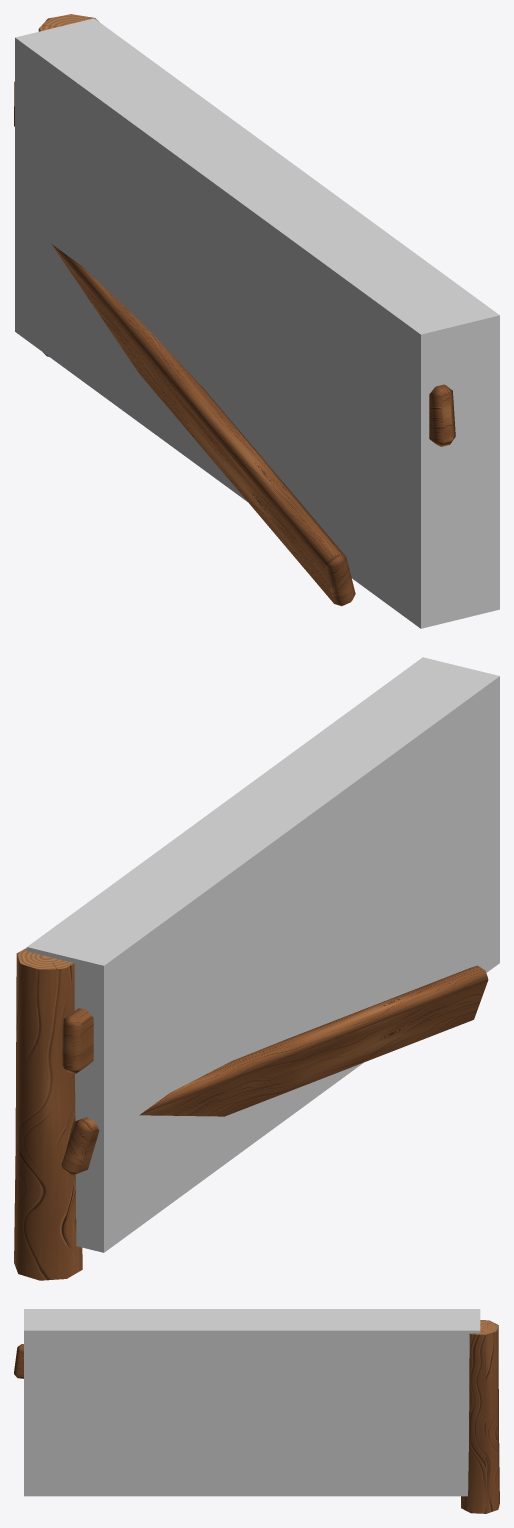
Rendered from SM_Fence_Broken.fbx.
3 views of the same model, one above another, from view 1: azimuth 30°, elevation 25°; view 2: azimuth 150°, elevation 25°; view 3: azimuth 270°, elevation 25° (orthographic). The views are drawn at different scales.
Parts seen in each view (by area): view 1: FenceBroken_Col0, FenceBroken_Body; view 2: FenceBroken_Col0, FenceBroken_Body; view 3: FenceBroken_Col0, FenceBroken_Body.
Boxes of the visible parts, <box> form: FenceBroken_Col0: <box>15,18,499,628</box>; FenceBroken_Body: <box>14,14,455,606</box>; FenceBroken_Col0: <box>27,657,499,1252</box>; FenceBroken_Body: <box>14,947,488,1280</box>; FenceBroken_Col0: <box>24,1309,480,1496</box>; FenceBroken_Body: <box>14,1320,499,1513</box>.
Bounding box in the file's own units: 1.47 × 3.5 × 8.52.
